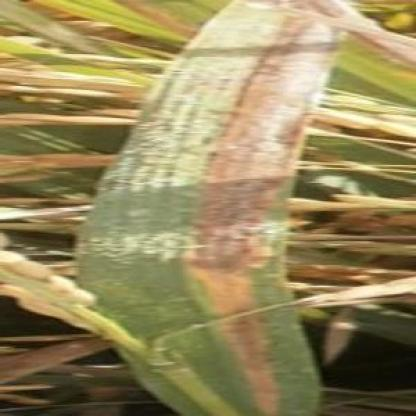Blight: (160, 1, 356, 416)
